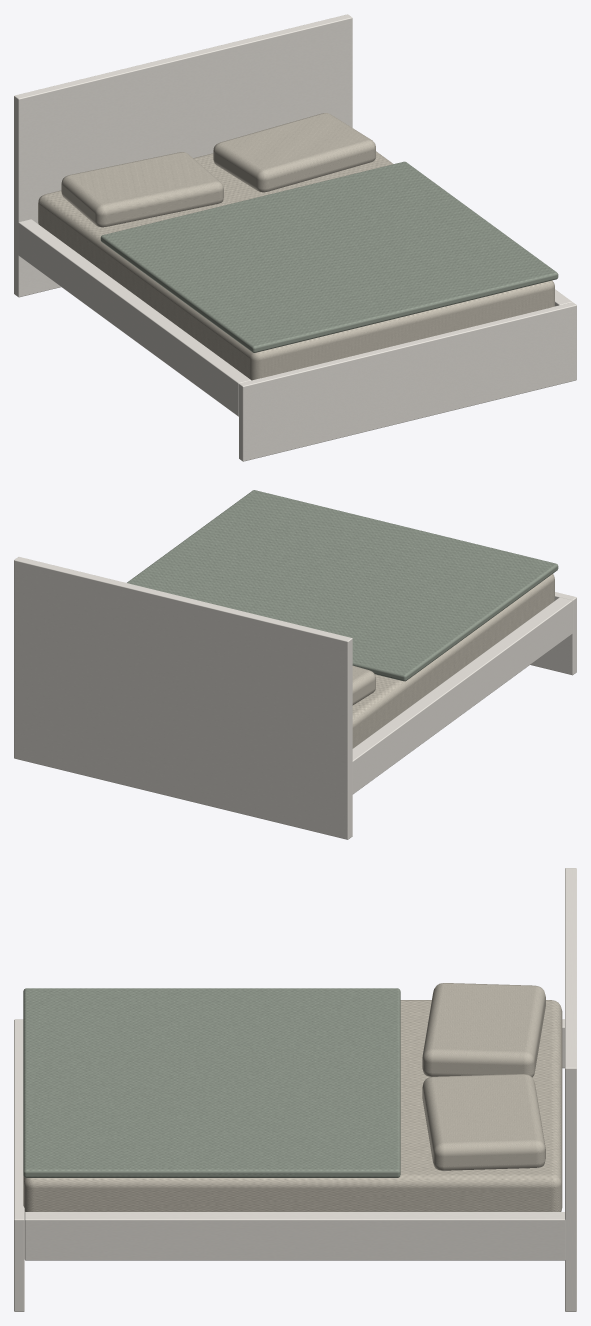
The model's file is malm-bed.glb.
The picture shows the model from 3 angles, top to bottom: view 1: azimuth 30°, elevation 25°; view 2: azimuth 150°, elevation 25°; view 3: azimuth 270°, elevation 25°; orthographic projection. The views are drawn at different scales.
Visible parts, largest first — view 1: MALM Bed frame · 160 × 200 mattress; view 2: MALM Bed frame · 160 × 200 mattress; view 3: MALM Bed frame · 160 × 200 mattress.
Boxes of the visible parts, bbox=[...] form: MALM Bed frame · 160 × 200 mattress: bbox=[14, 14, 576, 461]; MALM Bed frame · 160 × 200 mattress: bbox=[14, 490, 576, 839]; MALM Bed frame · 160 × 200 mattress: bbox=[14, 868, 576, 1311].
Size of the model in its own units: 1.76 by 1 by 2.09.
3 materials, 3 textured.
